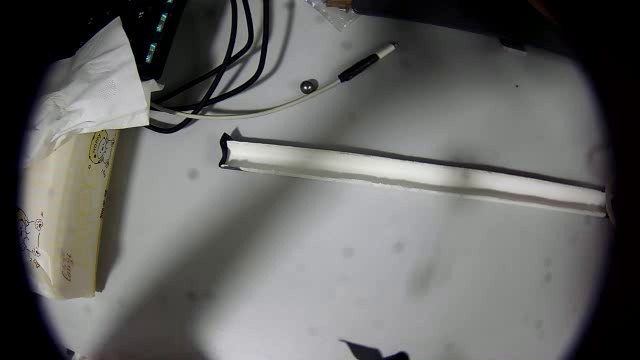gangzhu: (299, 77, 317, 94)
